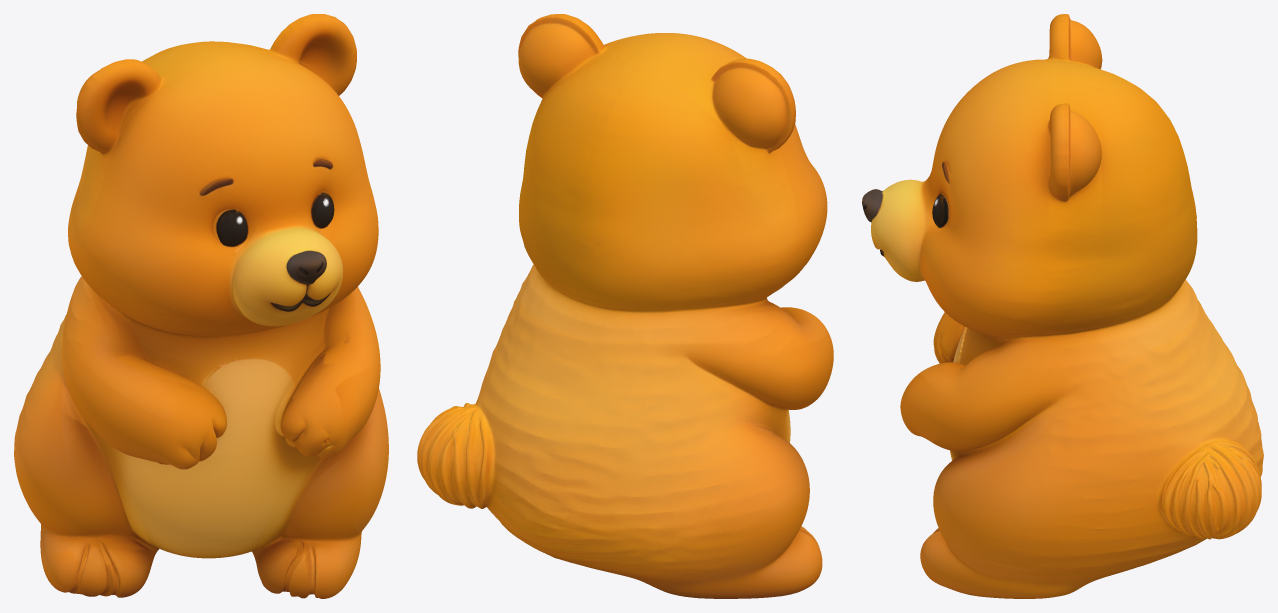
File: base_basic_shaded.glb
3 renders of one model, left to right at view 1: azimuth 30°, elevation 25°; view 2: azimuth 150°, elevation 25°; view 3: azimuth 270°, elevation 25°, orthographic. The views are drawn at different scales.
Parts seen in each view (by area): view 1: model; view 2: model; view 3: model.
Part boxes in pixels (x1=…): model: x1=14, y1=14, x2=388, y2=598; model: x1=417, y1=14, x2=833, y2=598; model: x1=862, y1=14, x2=1263, y2=598.
Bounding box in the file's own units: 1.22 × 1.9 × 1.39.
Materials: 1 (1 with a texture image).
